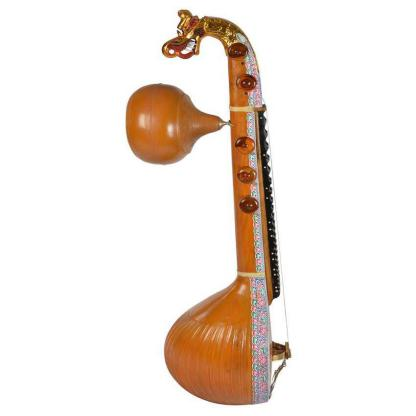Veena: (198, 6, 302, 408)
